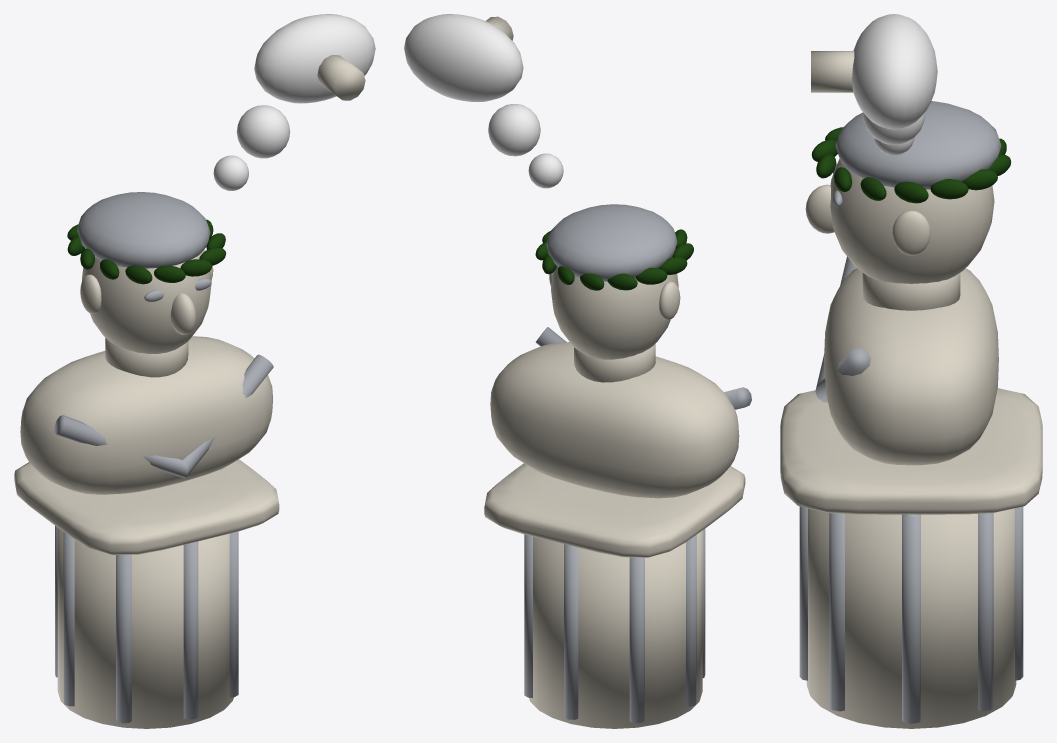
Rendered from RomanEmpireBust.fbx.
3 renders of one model, left to right at view 1: azimuth 30°, elevation 25°; view 2: azimuth 150°, elevation 25°; view 3: azimuth 270°, elevation 25°, orthographic. The views are drawn at different scales.
Parts seen in each view (by area): view 1: RomanEmpireBust; view 2: RomanEmpireBust; view 3: RomanEmpireBust.
Boxes of the visible parts, left/top/right/bottom form: RomanEmpireBust: left=14, top=14, right=375, bottom=728; RomanEmpireBust: left=404, top=14, right=751, bottom=728; RomanEmpireBust: left=780, top=14, right=1042, bottom=728.
Size of the model in its own units: 2.6 by 4.75 by 1.5.
1 material, 1 textured.
